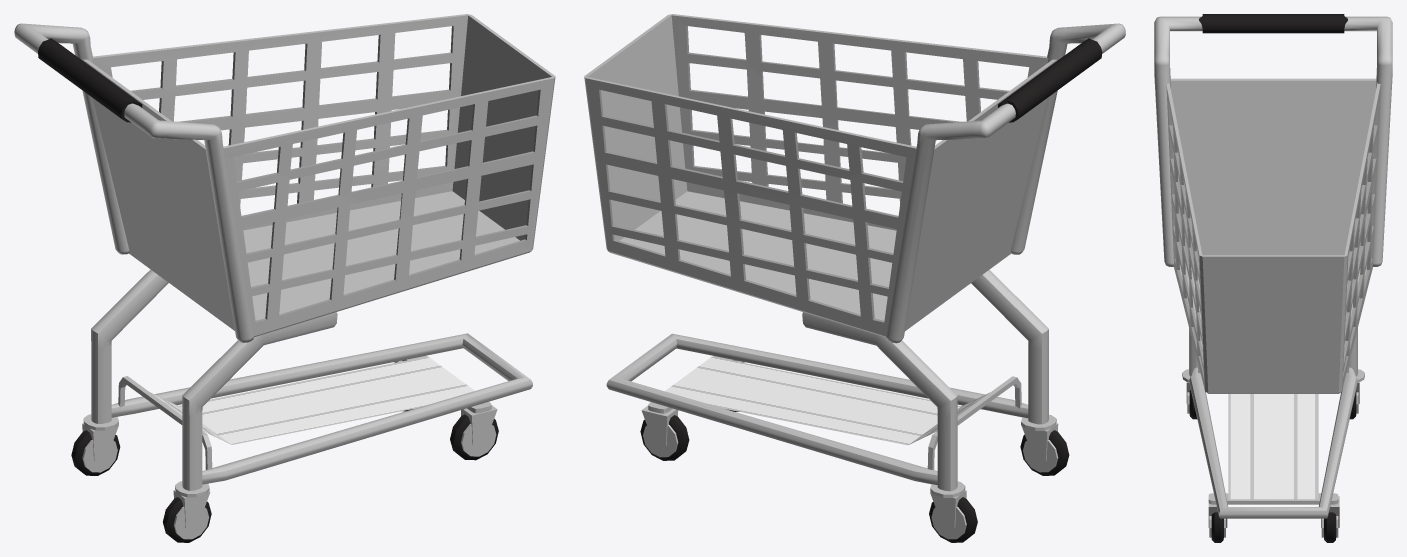
The model's file is supermarket_shoppingcart.fbx.
3 views of the same model, side by side, from view 1: azimuth 30°, elevation 25°; view 2: azimuth 150°, elevation 25°; view 3: azimuth 270°, elevation 25° (orthographic). The views are drawn at different scales.
Visible parts, largest first — view 1: pCube30, pPlane1, pCube14, polySurface1, polySurface2, pCylinder2, pCylinder1, pCylinder4, pCube10, wheels3, wheels, wheels1; view 2: pCube30, pPlane1, pCube14, polySurface1, polySurface2, pCylinder2, pCylinder4, pCylinder3, pCube10, wheels2, wheels1, wheels; view 3: pCube30, pCube14, pPlane1, polySurface1, pCube9, polySurface2, pCylinder3, pCylinder1.
Boxes of the visible parts, x1,y1,x2,y2 form: pCube30: (83,14,555,337); pPlane1: (150,356,474,444); pCube14: (14,23,253,342); polySurface1: (111,333,532,484); polySurface2: (83,269,337,497); pCylinder2: (71,430,120,475); pCylinder1: (450,414,498,460); pCylinder4: (163,497,211,542); pCube10: (118,376,212,469); wheels3: (461,405,497,447); wheels: (173,490,210,530); wheels1: (82,423,118,463); pCube30: (584,14,1056,337); pPlane1: (665,356,989,445); pCube14: (886,23,1125,343); polySurface1: (606,333,1028,485); polySurface2: (802,270,1056,497); pCylinder2: (929,497,977,542); pCylinder4: (1020,430,1069,475); pCylinder3: (640,415,689,460); pCube10: (927,376,1021,469); wheels2: (641,405,678,448); wheels1: (930,490,966,530); wheels: (1021,423,1058,463); pCube30: (1166,78,1380,393); pCube14: (1154,14,1392,266); pPlane1: (1228,394,1318,499); polySurface1: (1189,367,1357,518); pCube9: (1208,493,1338,504); polySurface2: (1182,328,1364,382); pCylinder3: (1321,512,1338,542); pCylinder1: (1209,512,1225,542).
Size of the model in its own units: 7.81 by 7.75 by 4.4.
Materials: 4 (1 with a texture image).
